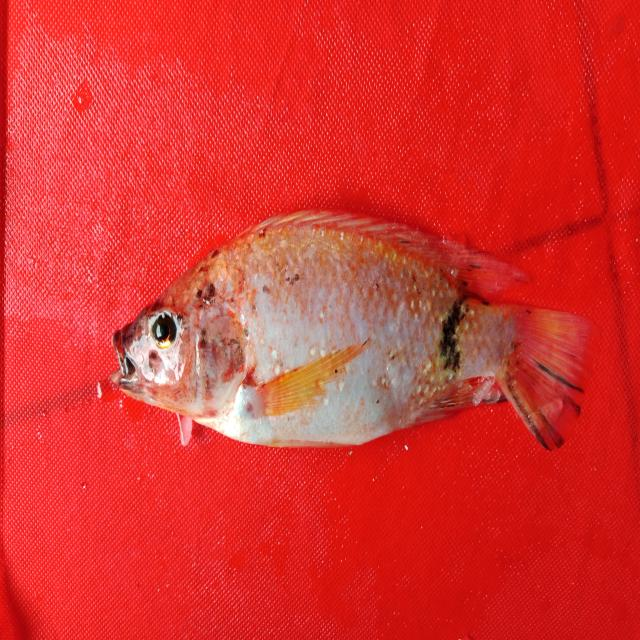ikan: (106, 192, 603, 469)
